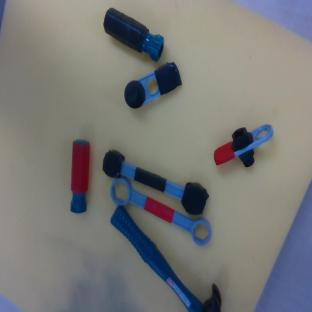part_1_bad: (118, 59, 185, 111)
part_1_good: (208, 109, 281, 182)
part_2_bad: (97, 6, 170, 63)
part_2_good: (70, 139, 90, 214)
part_3_bad: (97, 147, 212, 218)
part_3_good: (104, 174, 217, 249)
